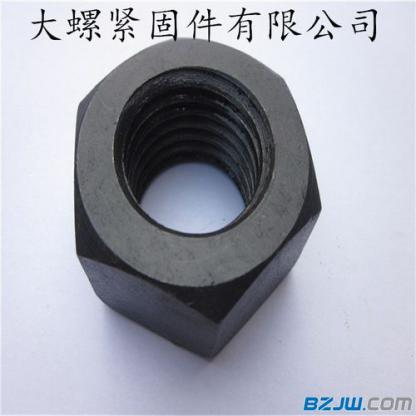FOD: (71, 34, 324, 359)
